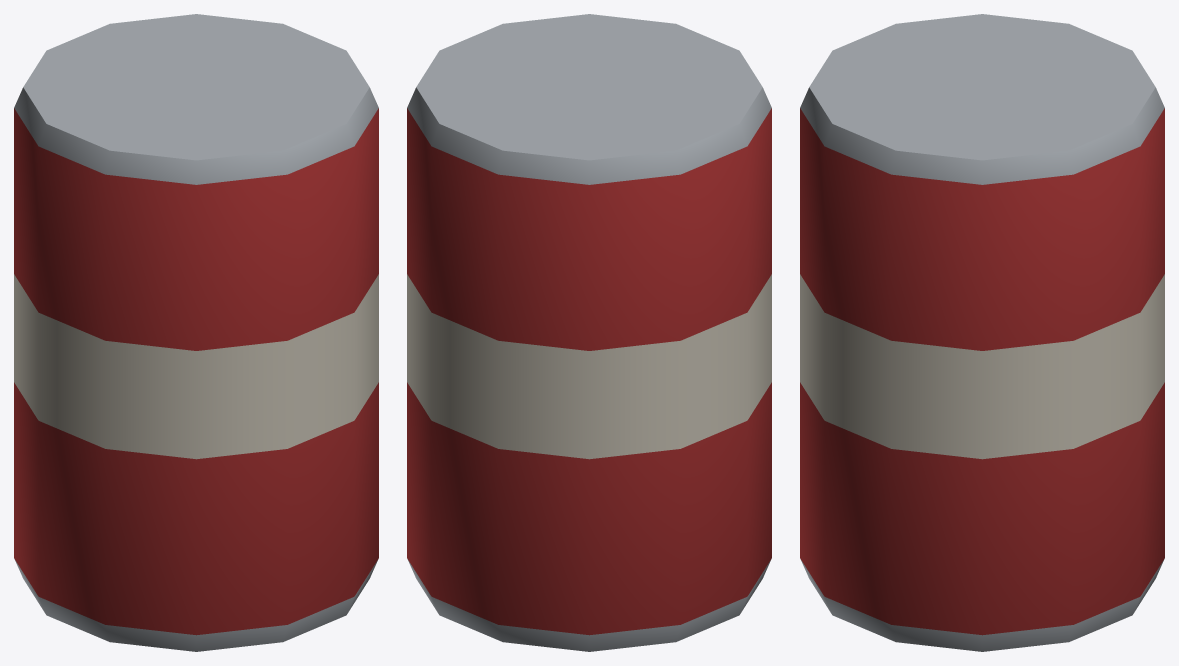
File: can_beans.glb
The picture shows the model from 3 angles, left to right: view 1: azimuth 30°, elevation 25°; view 2: azimuth 150°, elevation 25°; view 3: azimuth 270°, elevation 25°; orthographic projection.
Parts seen in each view (by area): view 1: Item; view 2: Item; view 3: Item.
Part boxes in pixels (x1,y1,x2,y2): Item: (14,14,378,651); Item: (407,14,771,651); Item: (800,14,1164,651).
Bounding box in the file's own units: 0.0962 × 0.143 × 0.0962.
